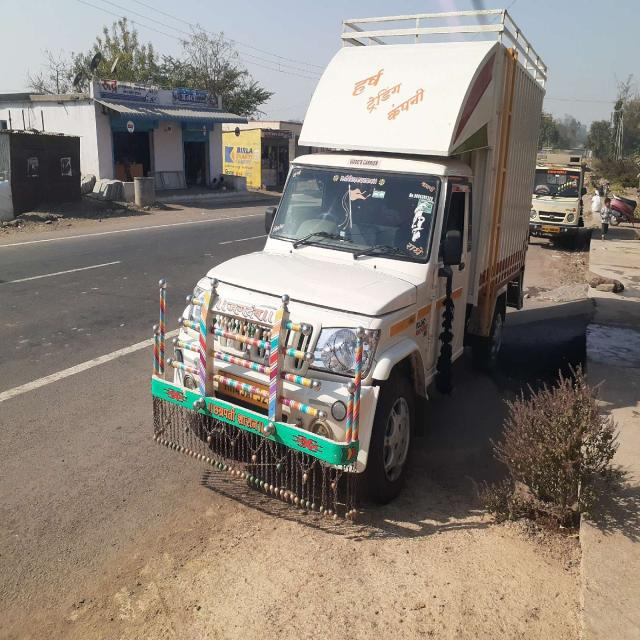light_vehicle: (162, 118, 530, 455)
